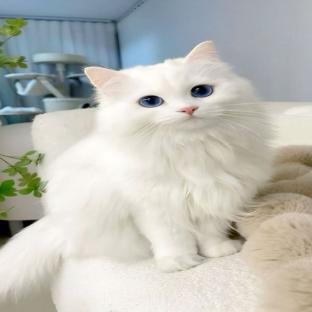Animal: (0, 41, 273, 300)
